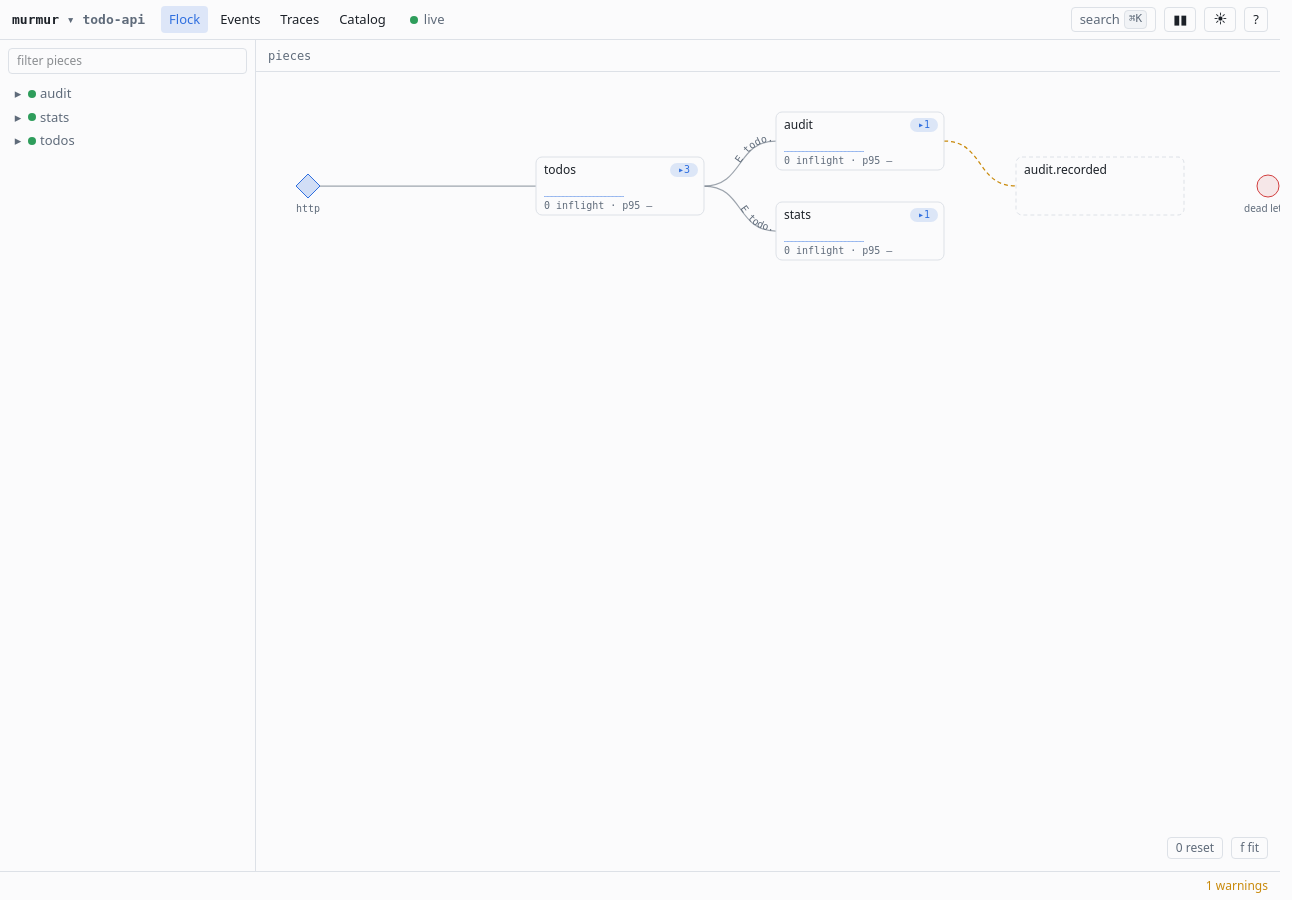
Test: app shell › expanding a group in the tree reveals its pieces
This screenshot has width=1292, height=900.
What coordinates should you click on to do the following:
click the 3rd button "▸"
I would click on:
 (18, 141)
Its box is [12,131,24,150].
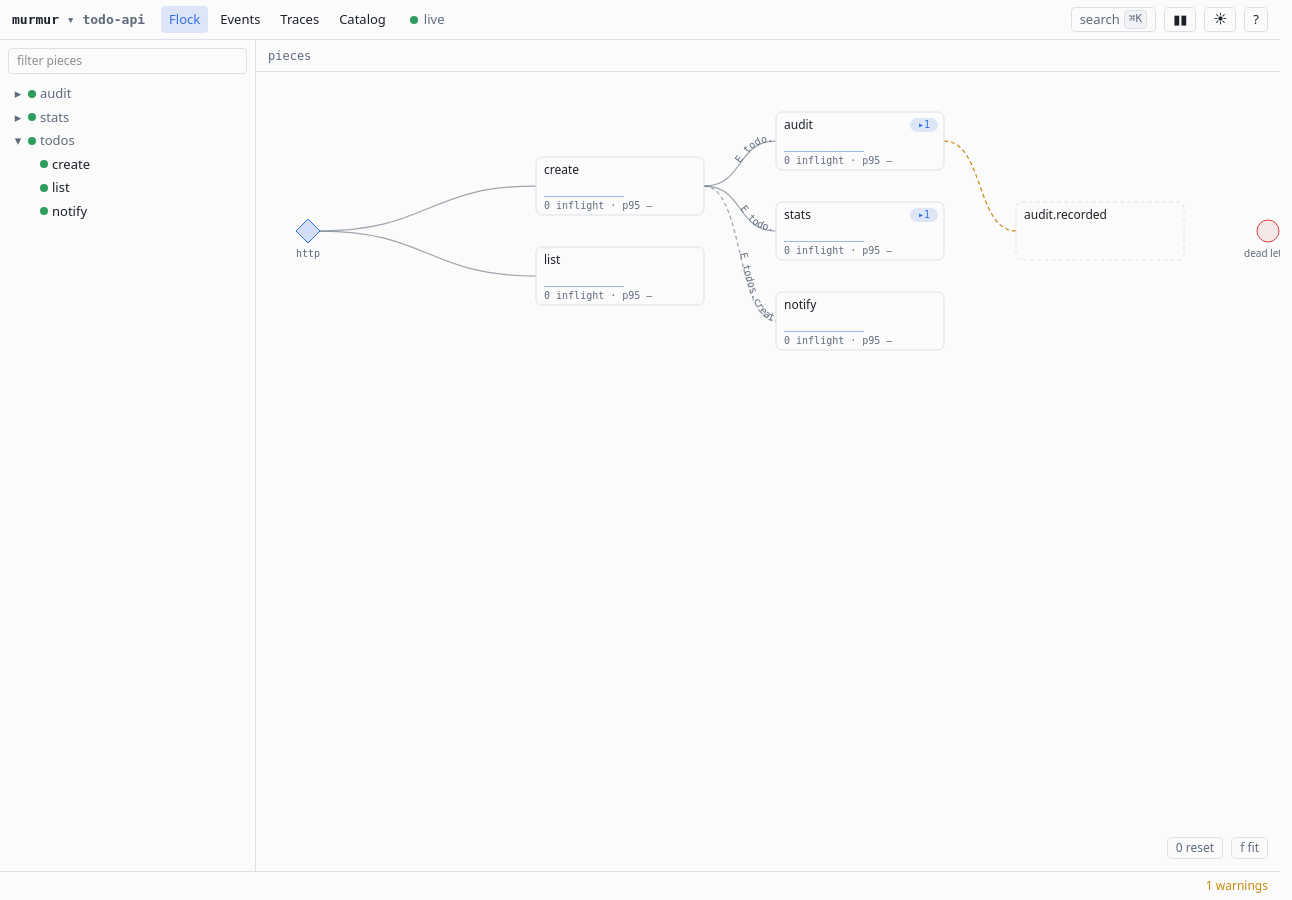
Result: the element showing "▸ audit ▸ stats ▾ todos create list notify" is shown at [12,84,90,220]
